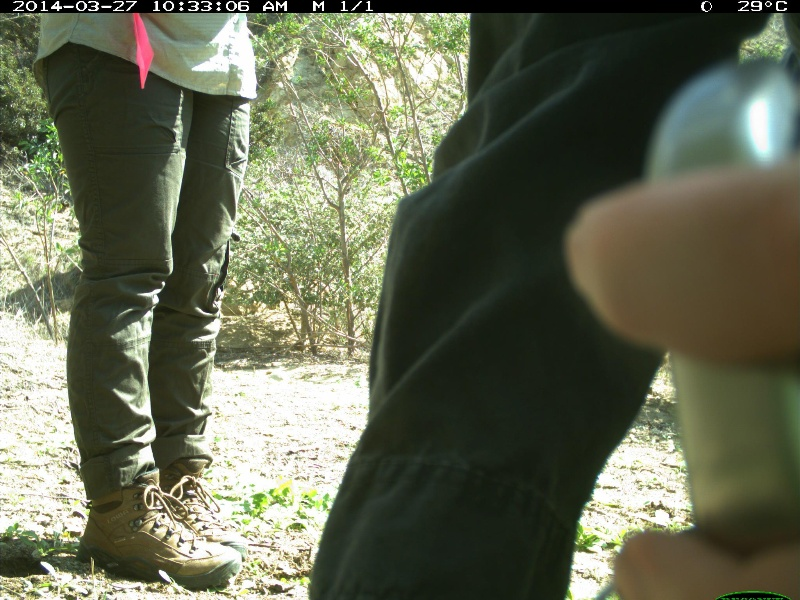human legs: (31, 53, 260, 593)
